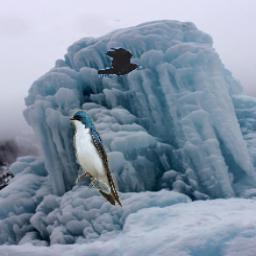Crow: (98, 48, 142, 78)
Swallow: (70, 111, 123, 208)
